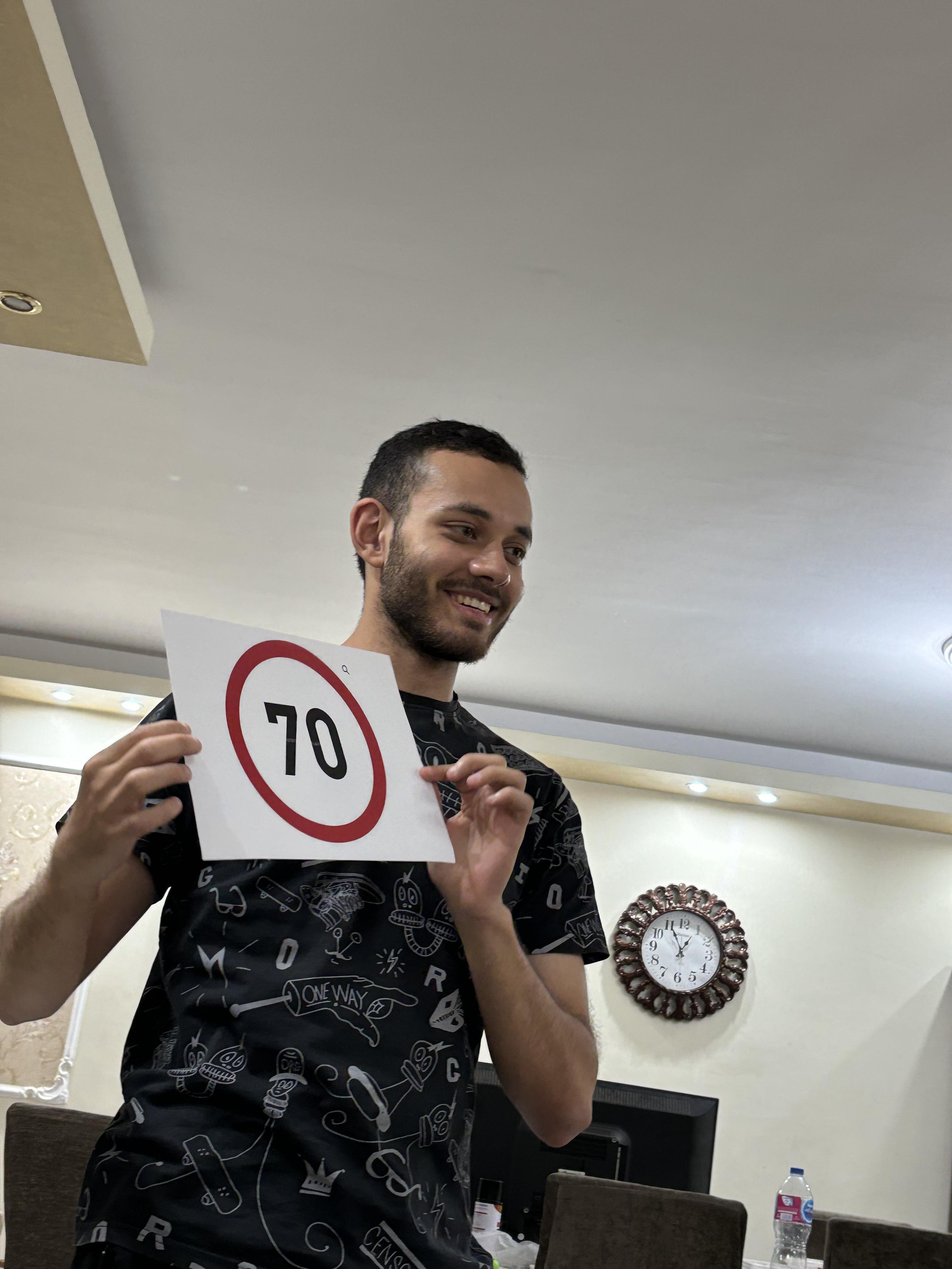70-Speed: (209, 637, 398, 848)
